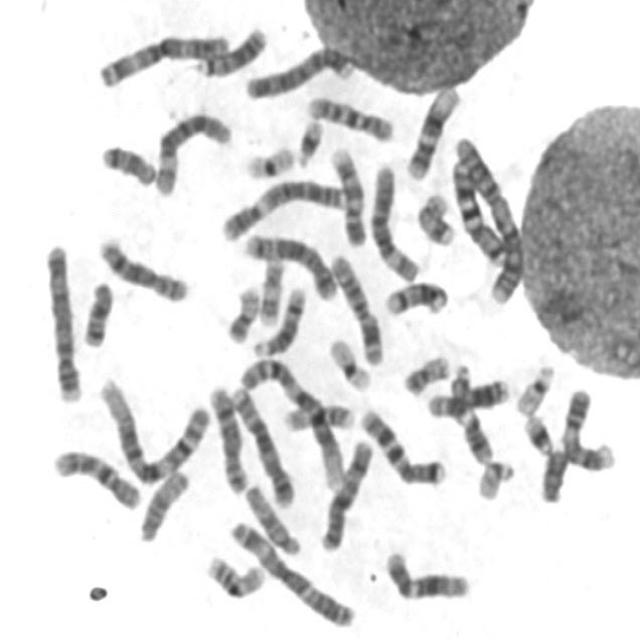A1: (234, 350, 347, 490), (92, 368, 214, 486)
A2: (448, 130, 527, 307), (326, 251, 391, 371)
A3: (222, 512, 358, 630), (92, 22, 234, 90)
B4: (39, 235, 85, 405), (239, 38, 356, 102)
B5: (224, 378, 297, 508), (237, 225, 339, 302)
C10: (46, 440, 145, 512), (301, 86, 396, 144)
C11: (222, 173, 356, 244), (446, 357, 497, 465)
C12: (400, 77, 463, 182), (379, 542, 474, 602)
C6: (148, 104, 234, 197), (364, 154, 423, 282)
C7: (354, 399, 449, 487), (446, 143, 511, 267)
C8: (92, 229, 192, 304), (203, 375, 251, 496)
C9: (555, 379, 619, 474), (324, 138, 368, 247)
D13: (188, 18, 269, 79), (422, 370, 511, 419)
D14: (246, 277, 308, 359), (378, 272, 452, 318)
D15: (238, 476, 304, 558), (133, 462, 192, 544)
E16: (199, 547, 268, 601), (278, 394, 357, 436)
E17: (410, 184, 458, 248), (254, 250, 286, 327)
E18: (96, 136, 159, 188), (76, 272, 115, 350)
F19: (322, 329, 374, 394), (238, 136, 298, 180)
F20: (220, 276, 264, 345), (396, 345, 453, 397)
G21: (290, 110, 326, 169), (518, 406, 556, 457)
G22: (510, 355, 559, 417), (472, 452, 517, 502)
X: (314, 431, 375, 554)
Y: (536, 440, 570, 504)
